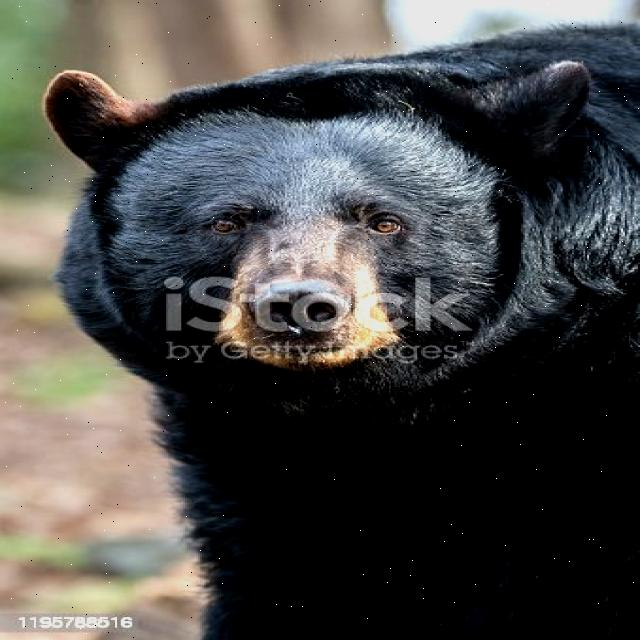bear: (78, 24, 640, 640)
